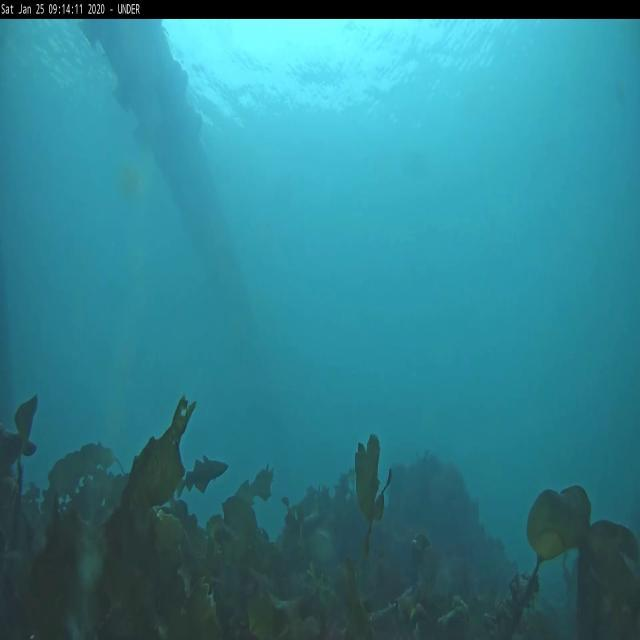fish: (174, 454, 228, 490)
